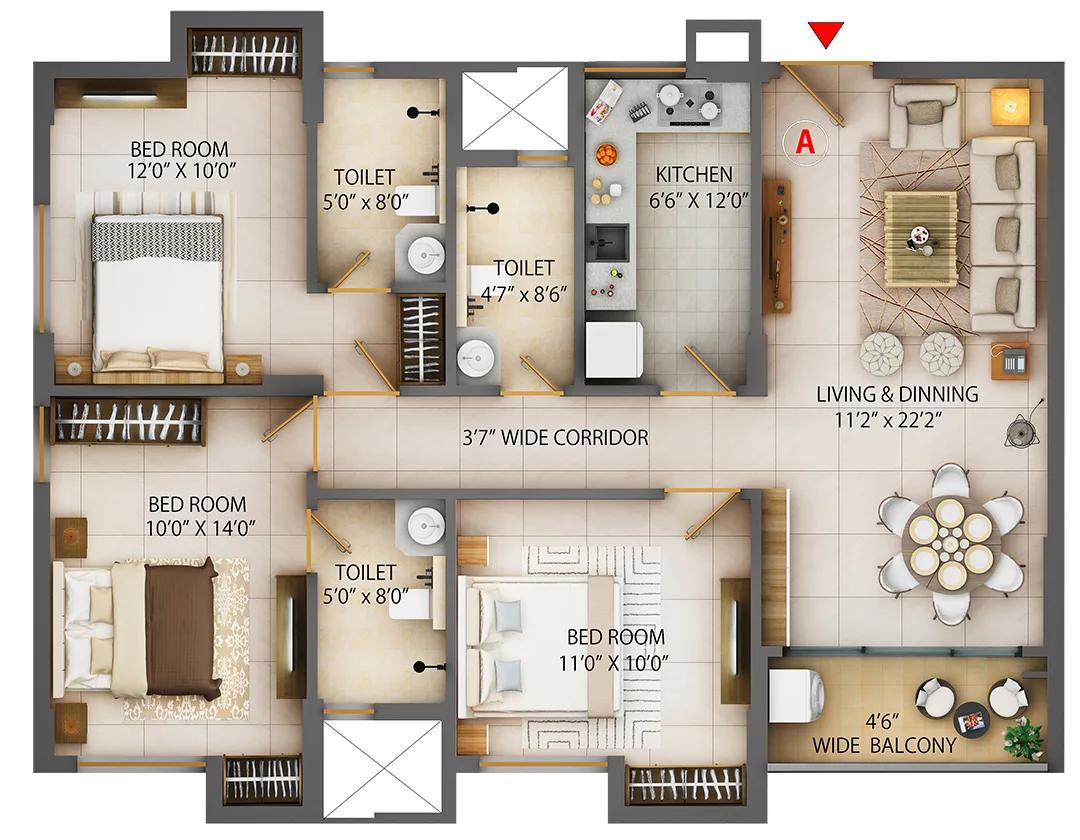room: (755, 66, 1057, 647), (42, 16, 315, 391), (44, 387, 313, 760), (451, 491, 754, 765), (580, 65, 754, 389), (456, 70, 583, 392), (756, 650, 1057, 767), (312, 70, 457, 288), (313, 494, 447, 712)
